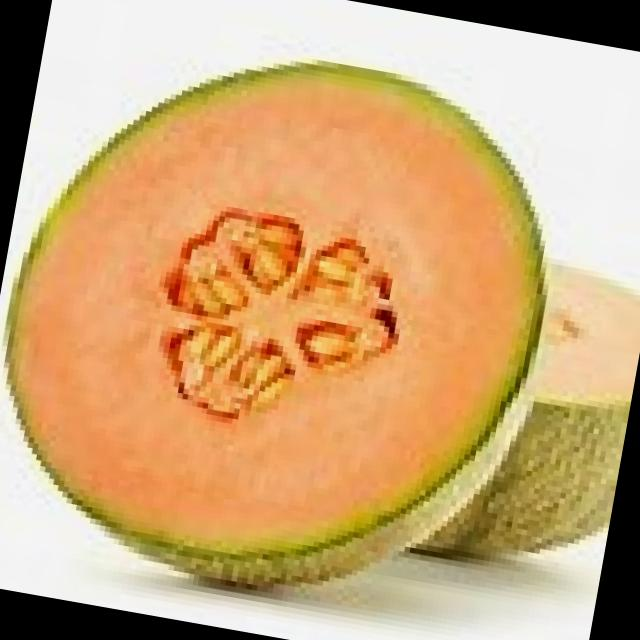cantaloupe: (0, 12, 587, 636)
